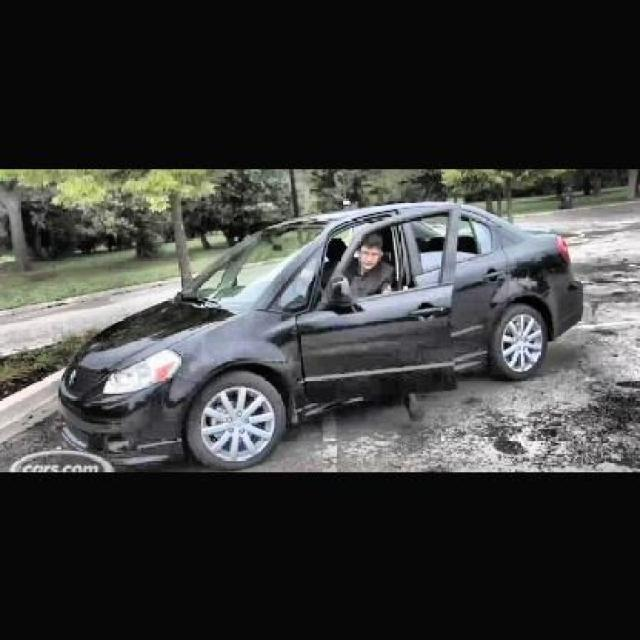black: (49, 214, 573, 436)
